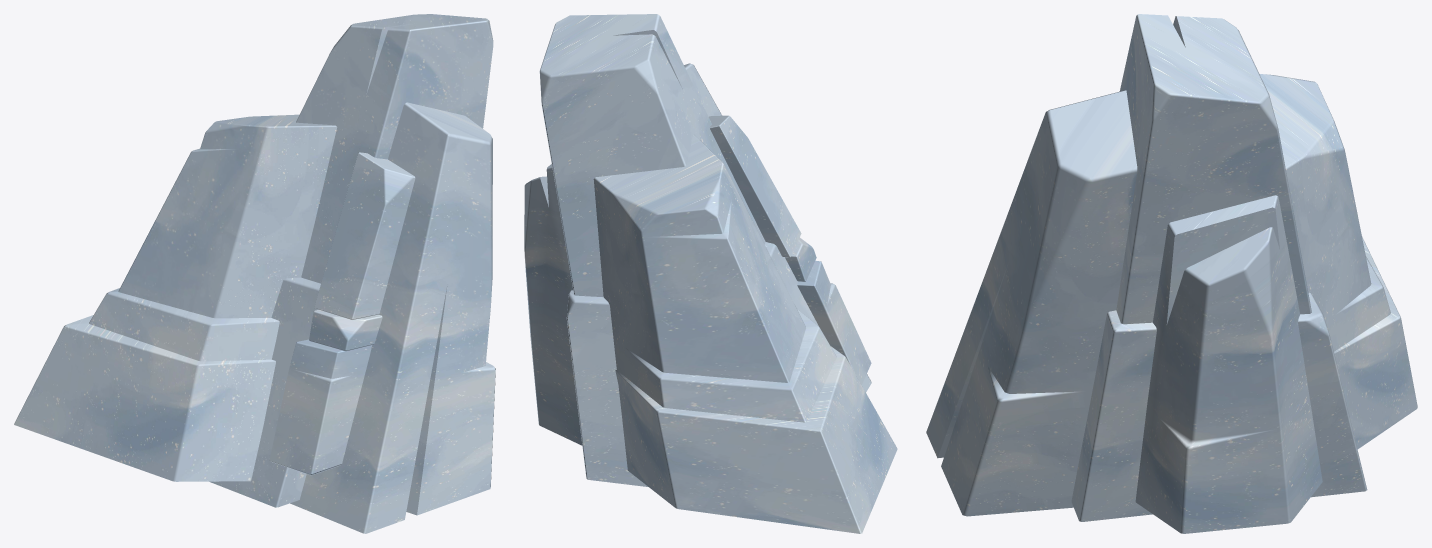
The model's file is P_ENV_rock_snow_03.gltf.
3 renders of one model, left to right at view 1: azimuth 30°, elevation 25°; view 2: azimuth 150°, elevation 25°; view 3: azimuth 270°, elevation 25°, orthographic. The views are drawn at different scales.
Visible parts, largest first — view 1: SM_ENV_rock_snow_03_LOD0; view 2: SM_ENV_rock_snow_03_LOD0; view 3: SM_ENV_rock_snow_03_LOD0.
Part boxes in pixels (x1,y1,x2,y2): SM_ENV_rock_snow_03_LOD0: (14, 14, 495, 533); SM_ENV_rock_snow_03_LOD0: (524, 14, 897, 533); SM_ENV_rock_snow_03_LOD0: (926, 14, 1417, 533).
Bounding box in the file's own units: 10.44 × 10.22 × 9.17.
1 material, 1 textured.
